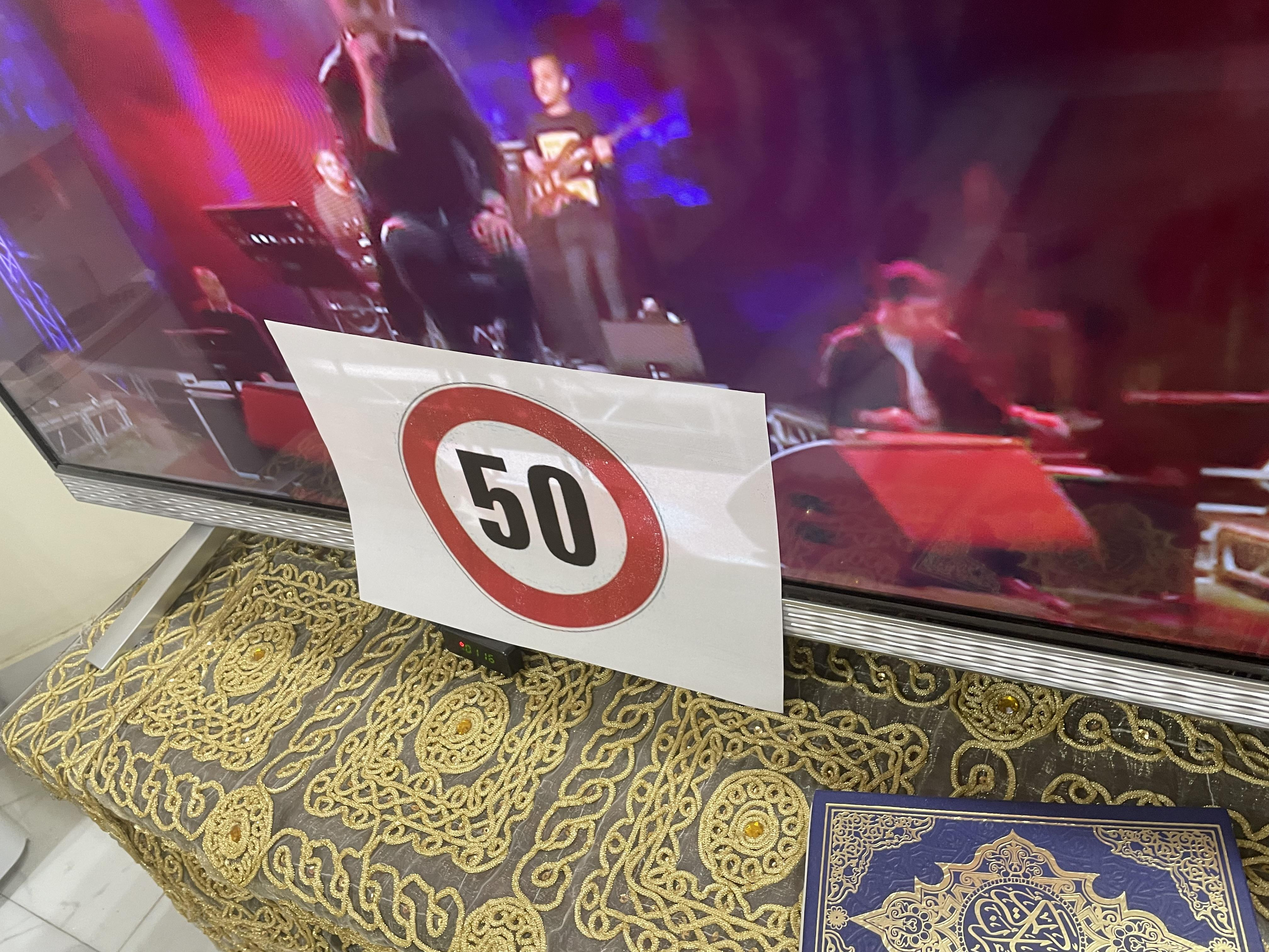50-Speed: (386, 370, 678, 641)
